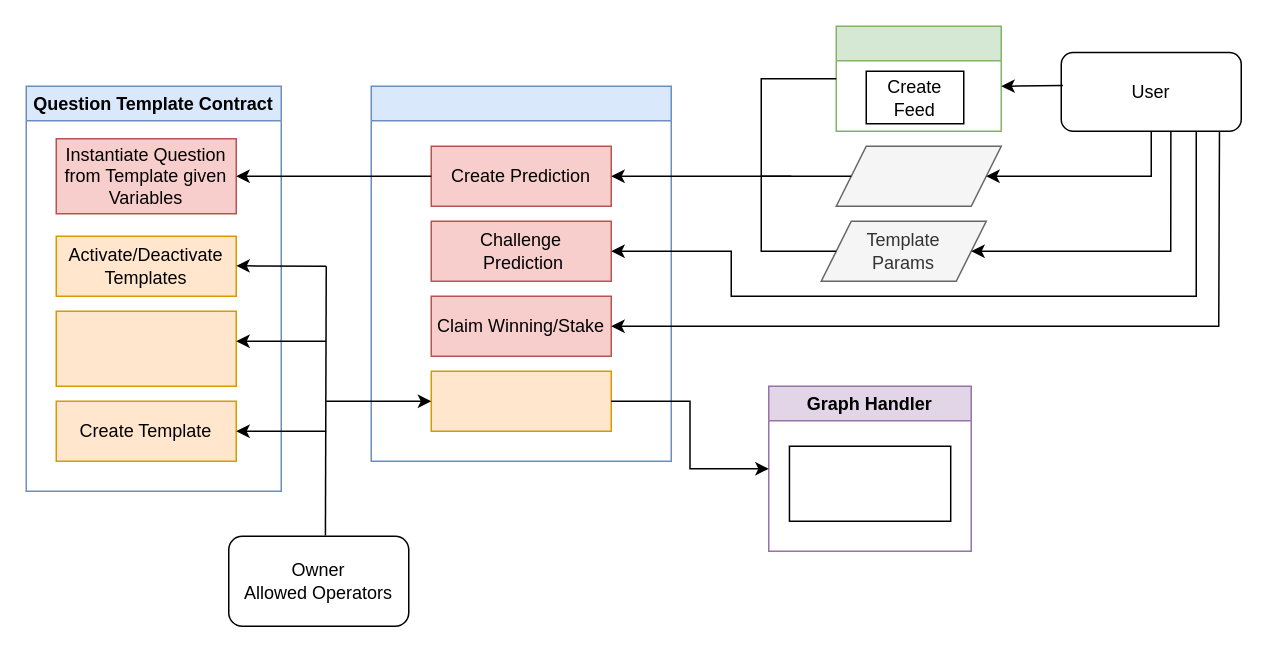
This 1268x653 diagram has some shape labels left out. The shapes that lost their labels are listed below. From the top down, each one's box as (x1, y1, x2, y2) in pixels, then its label:
(835, 25, 1001, 131): Lens Protocol
(835, 145, 1001, 206): Stake (GHO)
(370, 85, 671, 461): Prediction Contract
(55, 310, 236, 386): Add/Remove Variables From Question Template
(430, 370, 611, 431): Resolve Prediction
(788, 445, 951, 521): Scoring Calculation
